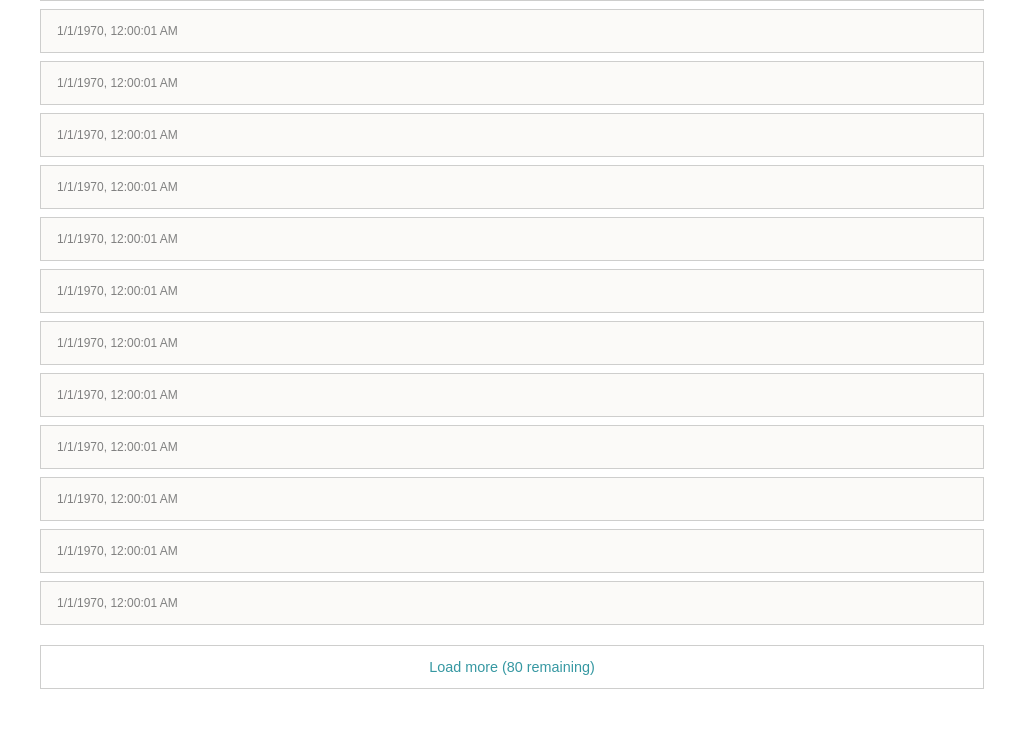
Test: HomeView › pagination (PAGE_SIZE=50) › "Load more" label updates remaining count after click
The width and height of the screenshot is (1024, 729).
(page scrolled)
Click the button "Load more (80 remaining)" at [512, 667], box left=40, top=645, right=984, bottom=689
(page scrolled)
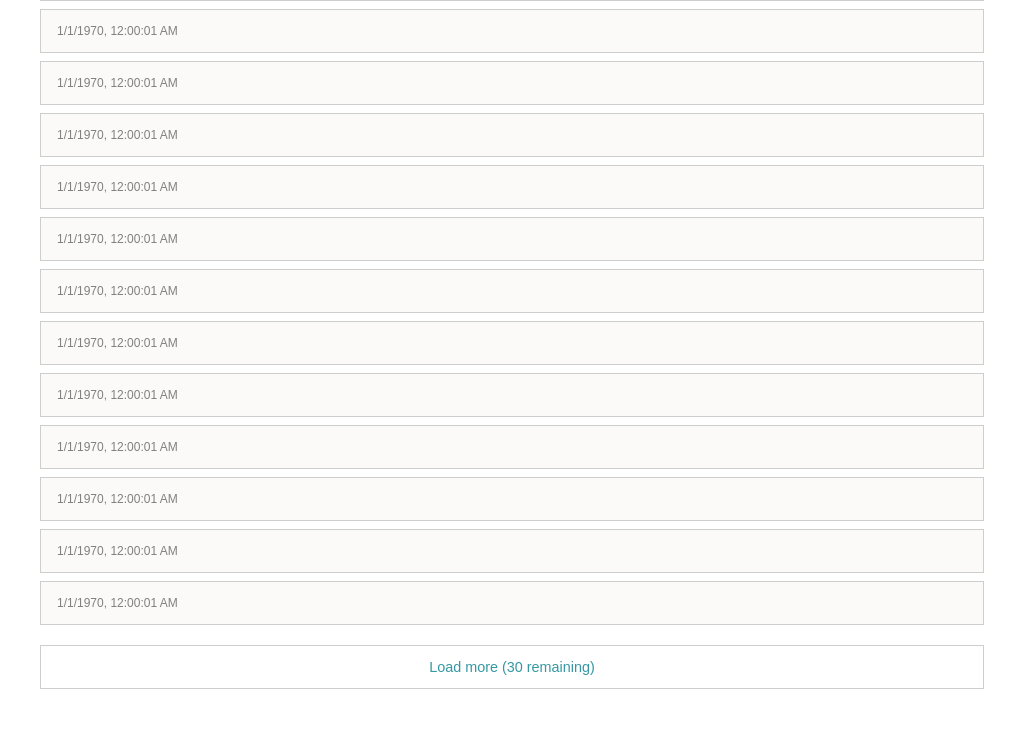
Check: the button "Load more (30 remaining)" is shown, box left=40, top=645, right=984, bottom=689
